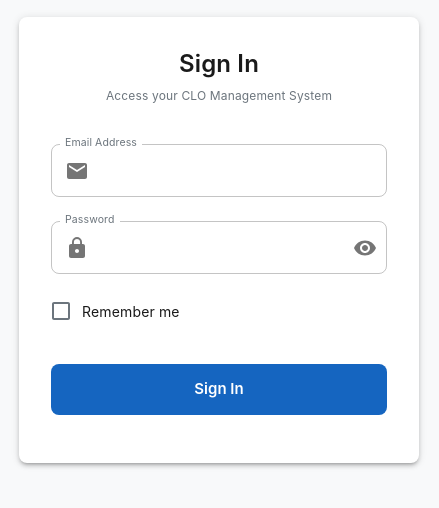
Scenario: LoginForm › displays validation error for invalid email
Type "invalid-email" into the field labelled "Email Address".
click(242, 171); type("invalid-email")  # box [97, 144, 387, 197]
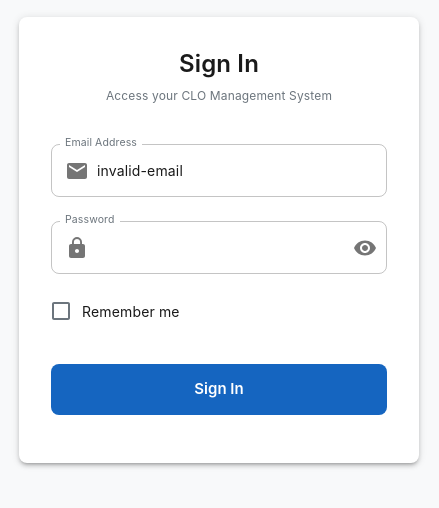
Leave the field labelled "Email Address", box [97, 144, 387, 197]
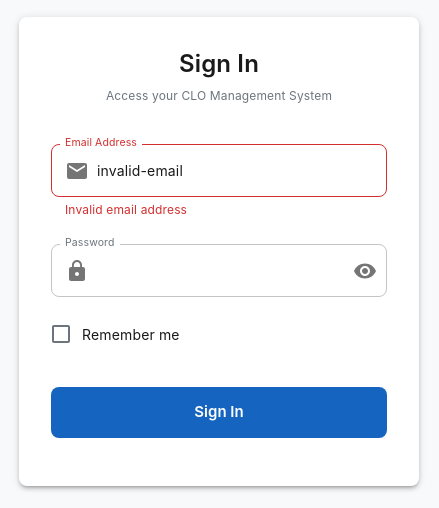
Expected: the text "Invalid email address" is shown, [65, 202, 187, 217]
